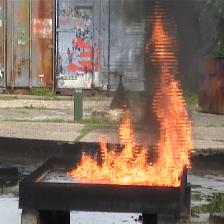fire: (66, 2, 196, 187)
